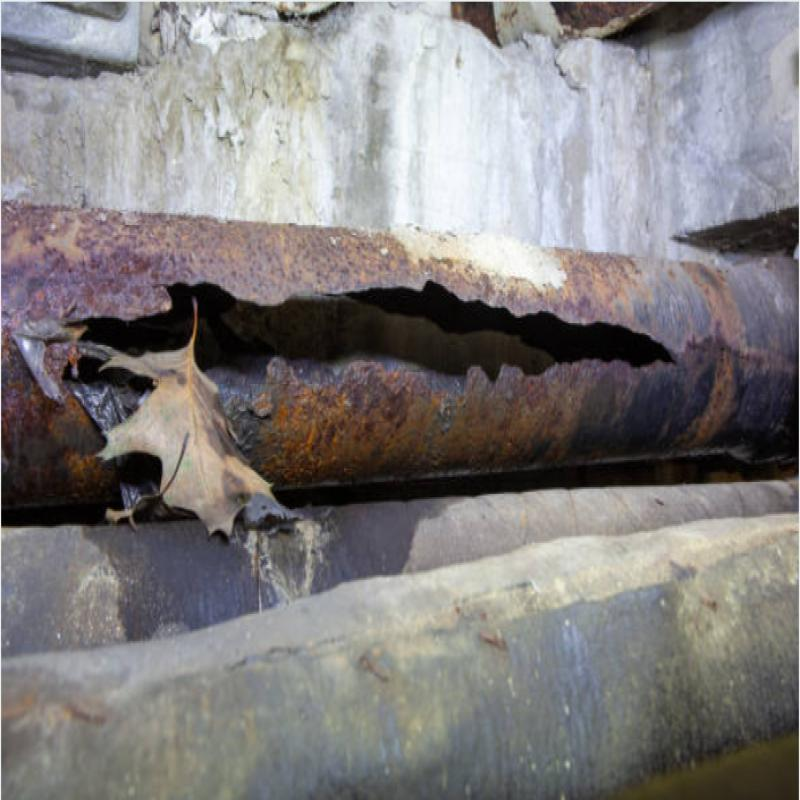Fracture: (27, 234, 706, 465)
